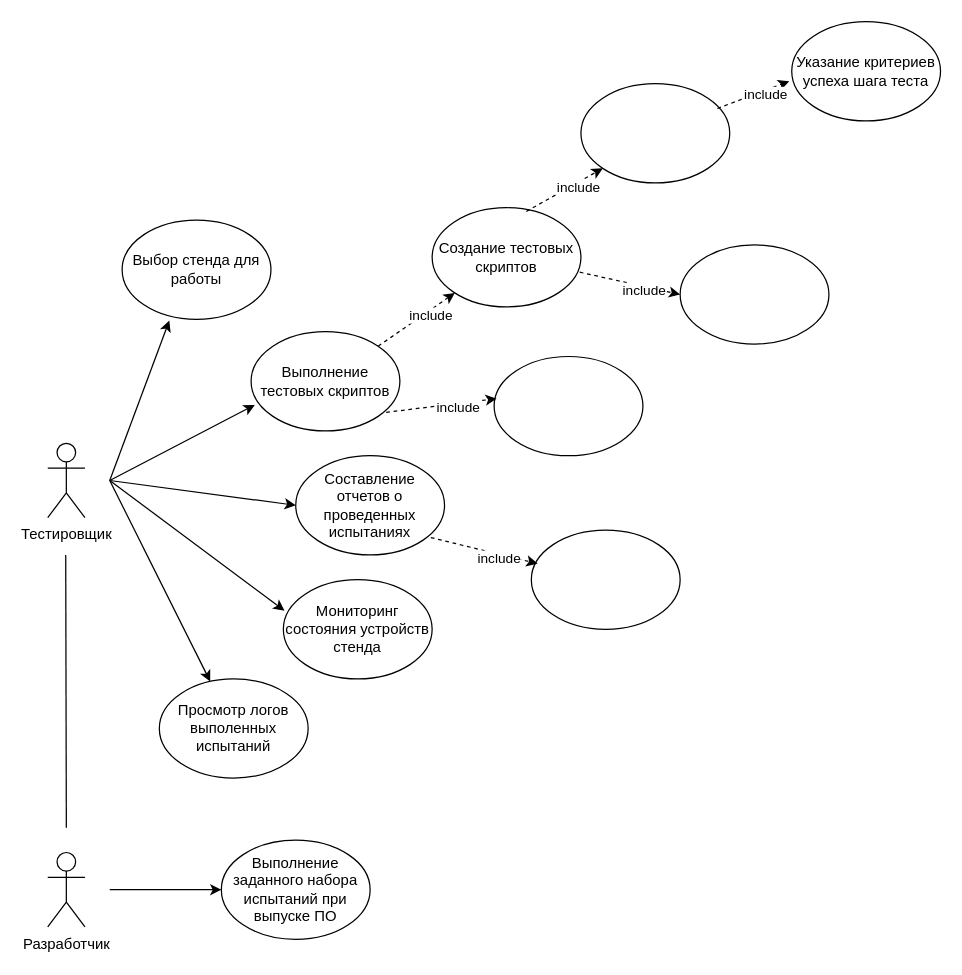
The diagram is 962 pixels wide and 975 high, and some of its shapes have lost their labels. Here are the shapes that lost their labels. From the top down, the centre of each, then its label:
At (x=655, y=132): "Указание последовательности шагов теста".
At (x=754, y=294): "Указание критериев успеха теста".
At (x=568, y=405): "Выбор заранее написаных наборов испытаний".
At (x=605, y=579): "Настройка параметров отчета".
